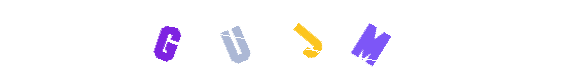G: (202, 0, 282, 80)
J: (245, 0, 325, 80)
M: (269, 0, 349, 80)
U: (244, 0, 324, 80)
